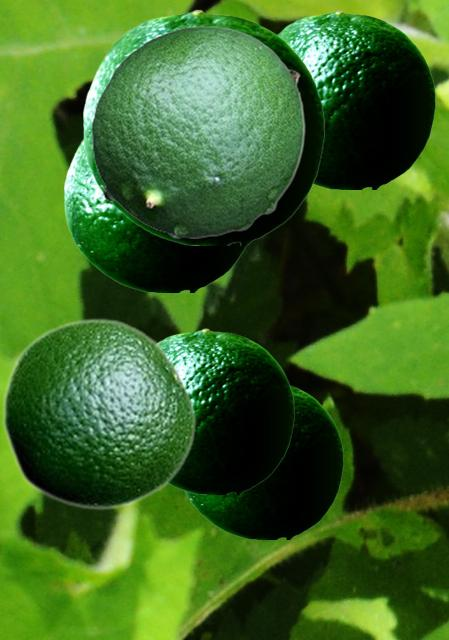calamansi: (83, 9, 323, 244), (91, 25, 304, 237), (1, 317, 196, 510), (64, 139, 247, 291), (278, 10, 434, 188), (185, 385, 342, 538), (158, 328, 293, 493)
